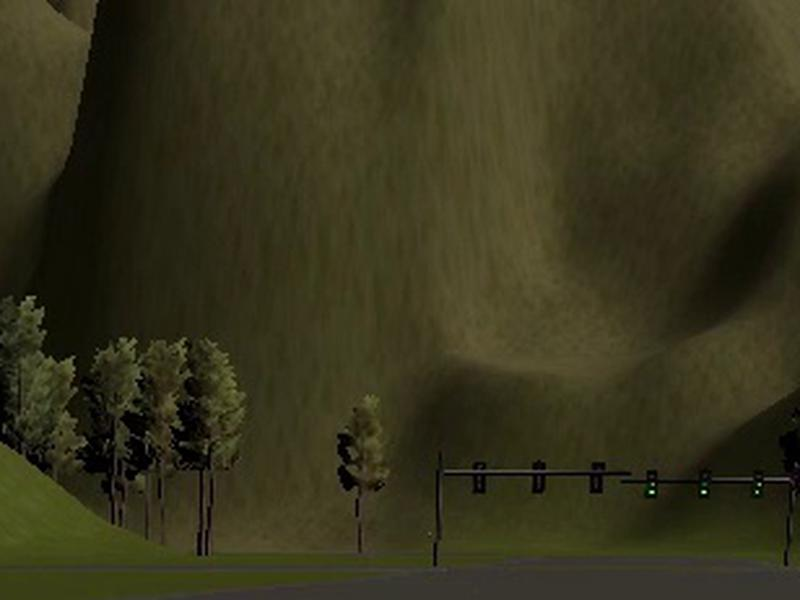Green: (751, 471, 764, 499), (646, 469, 657, 499), (698, 471, 710, 498)
